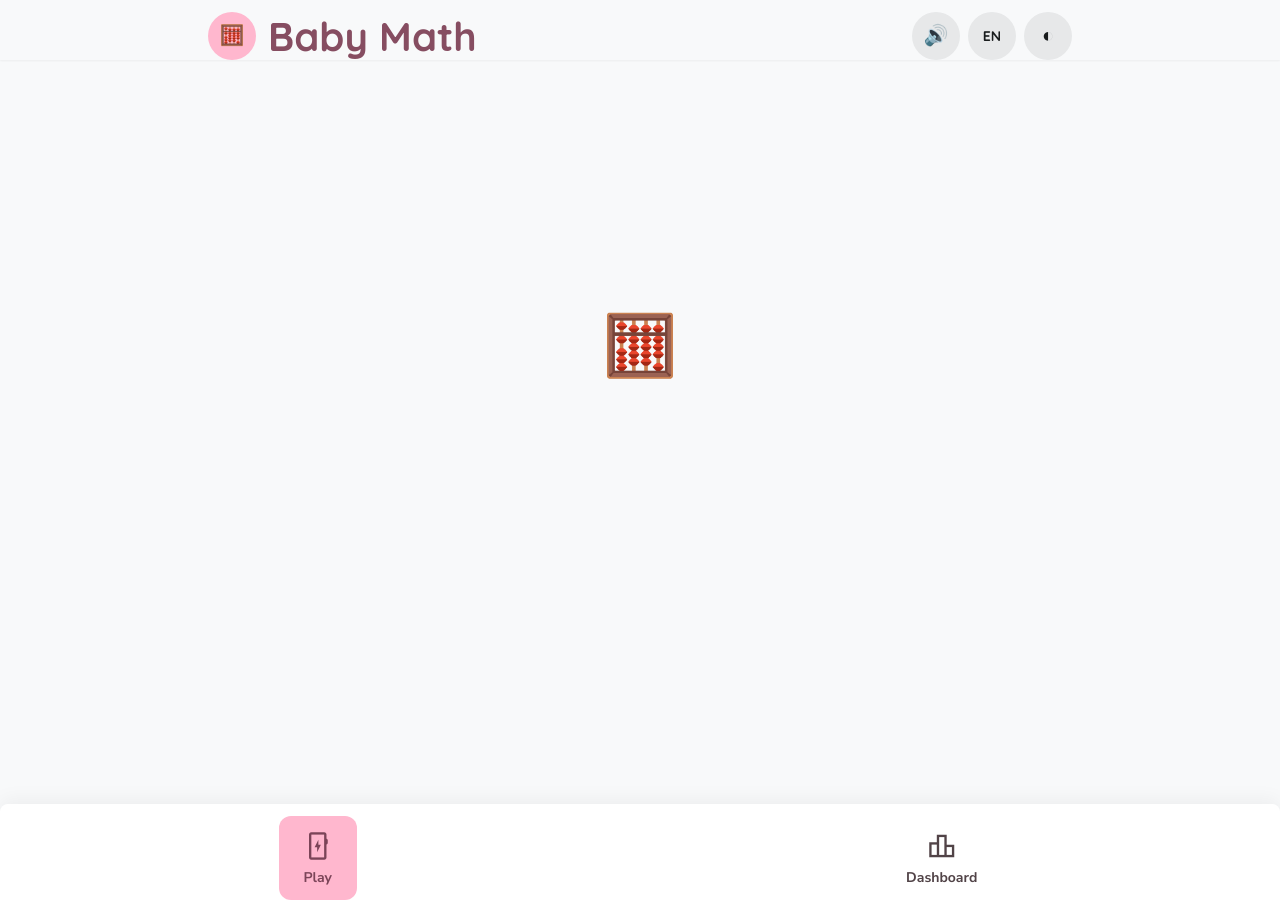
App - FE-003 › rejects wrong PIN
Click the text "Dashboard" at (942, 878), box 906,868 -> 977,888
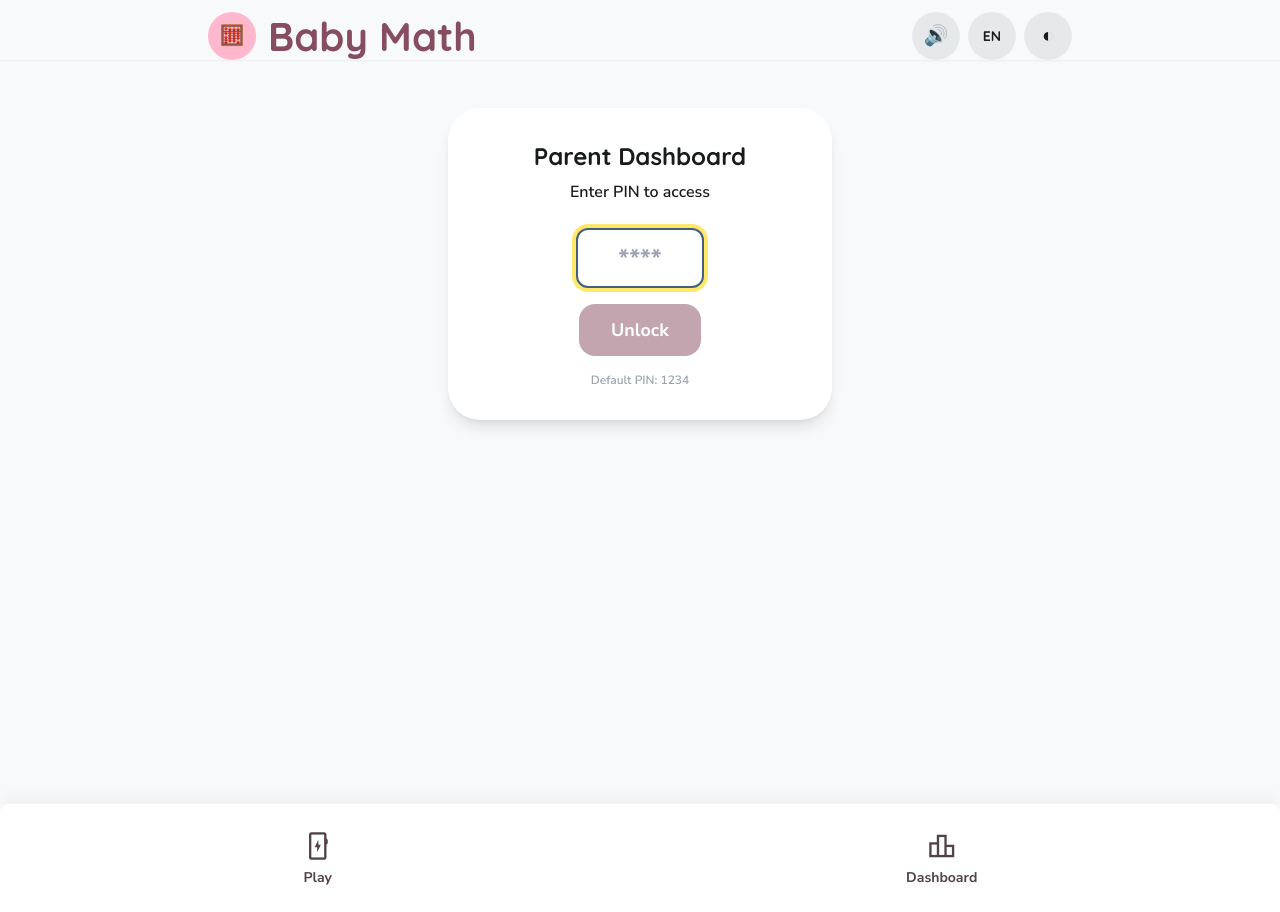
Type "0000" into the password field with placeholder "****" at (640, 258), box 576,228 -> 704,288
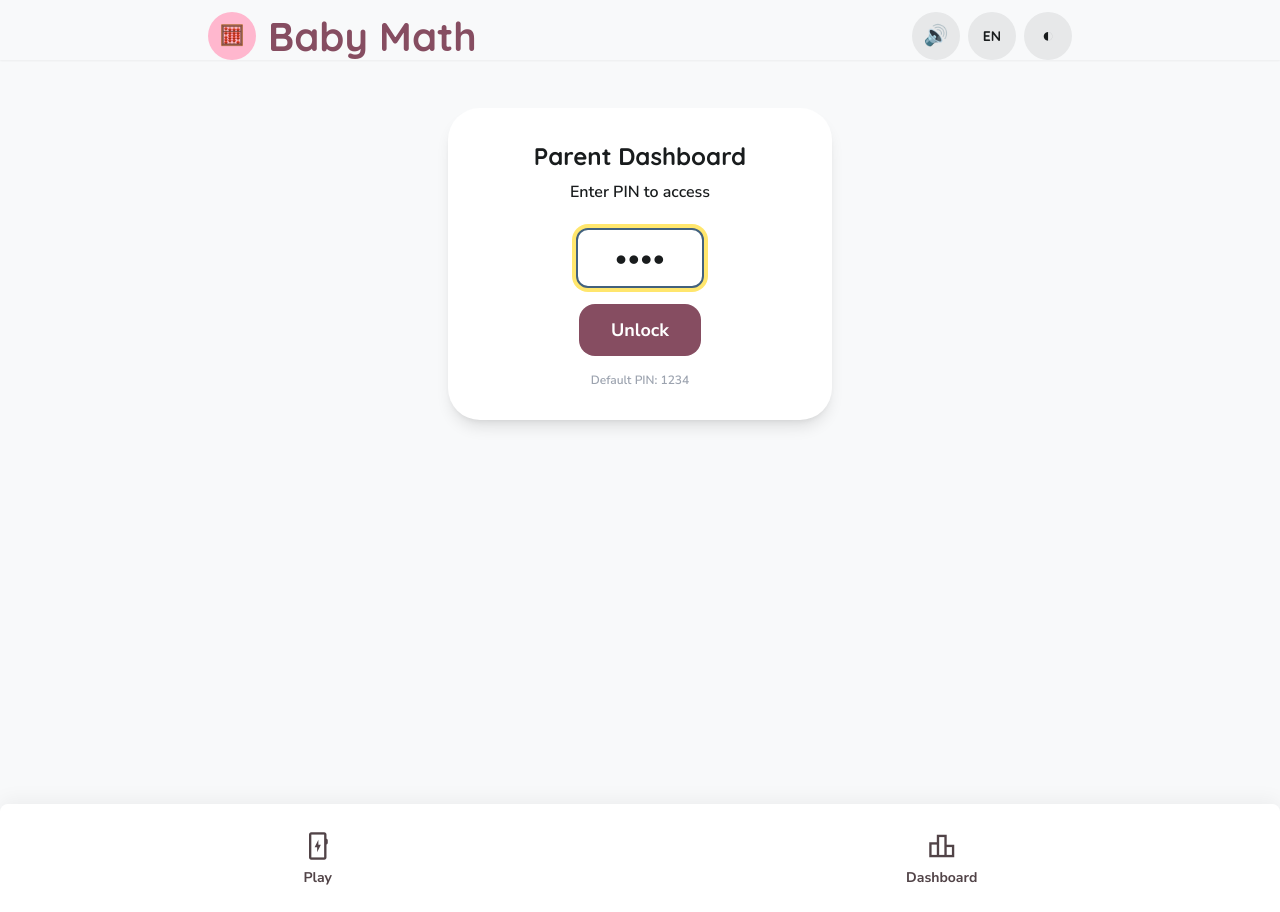
Click the button "Unlock" at (640, 330), box 579,304 -> 701,356
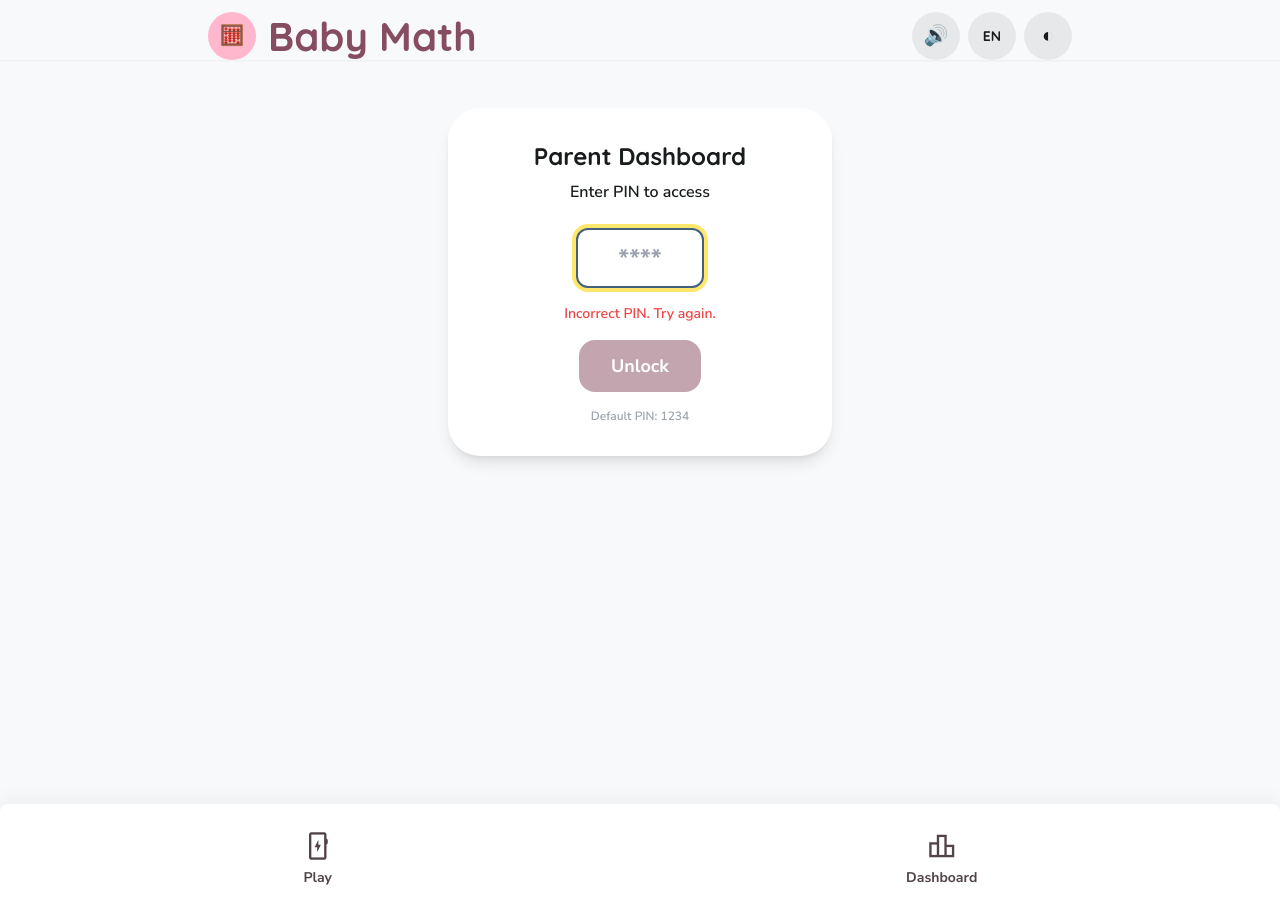
Expected: the text "Incorrect PIN. Try again." is shown, 564,304 -> 716,323
